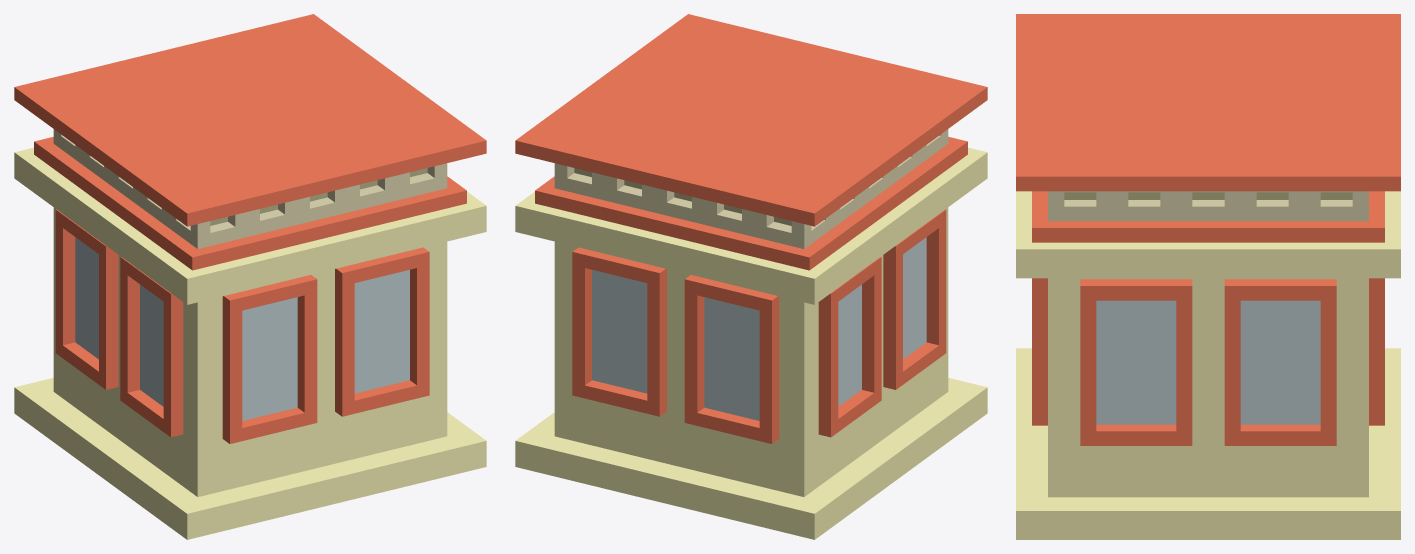
Rendered from secondModel(yellow).fbx.
3 renders of one model, left to right at view 1: azimuth 30°, elevation 25°; view 2: azimuth 150°, elevation 25°; view 3: azimuth 270°, elevation 25°, orthographic. The views are drawn at different scales.
Parts seen in each view (by area): view 1: Box; view 2: Box; view 3: Box.
Part boxes in pixels (box(x1,y1,x2,y2)): Box: box(14, 14, 486, 539); Box: box(515, 14, 987, 539); Box: box(1016, 14, 1400, 539).
Bounding box in the file's own units: 24 × 25 × 24.
1 material, 1 textured.
